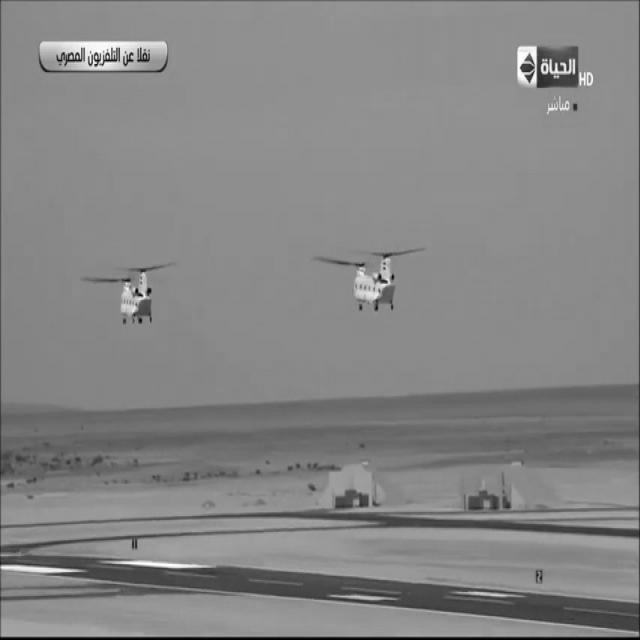helikopter: (313, 222, 423, 326), (90, 246, 179, 338)
